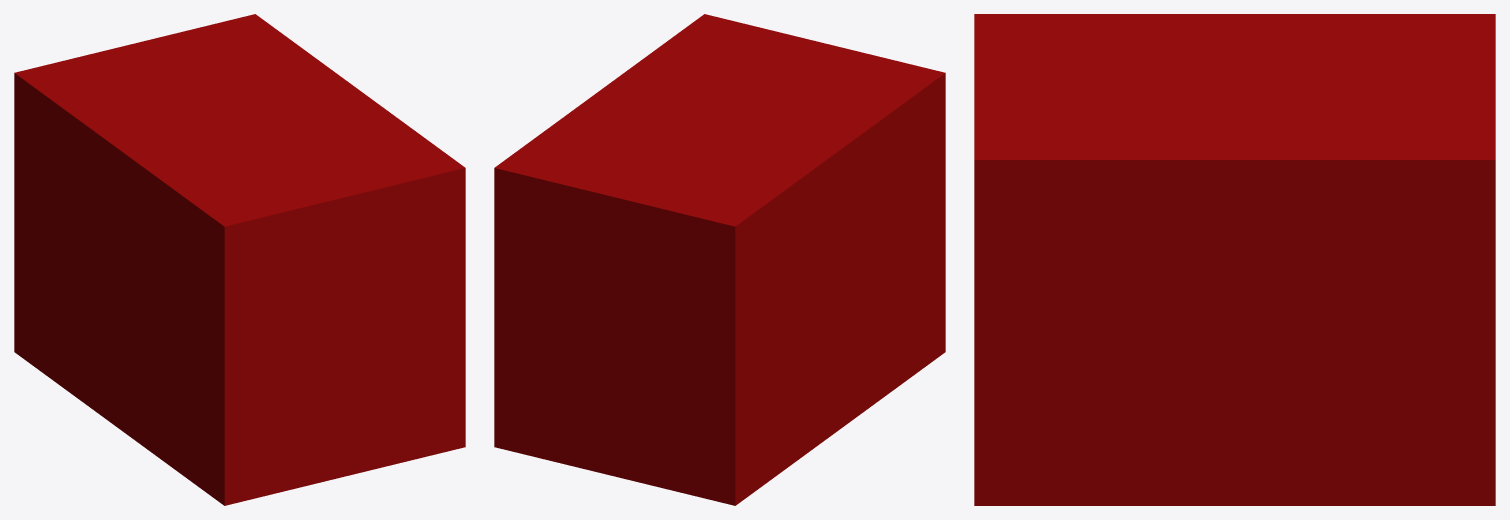
The model's file is Paper_Box_05.FBX.
3 renders of one model, left to right at view 1: azimuth 30°, elevation 25°; view 2: azimuth 150°, elevation 25°; view 3: azimuth 270°, elevation 25°, orthographic. The views are drawn at different scales.
Parts seen in each view (by area): view 1: Paper_Box_05; view 2: Paper_Box_05; view 3: Paper_Box_05.
Part boxes in pixels (x1,y1,x2,y2): Paper_Box_05: (14,14,465,505); Paper_Box_05: (494,14,945,505); Paper_Box_05: (974,14,1495,505).
Size of the model in its own units: 36.58 by 55.25 by 40.49.
